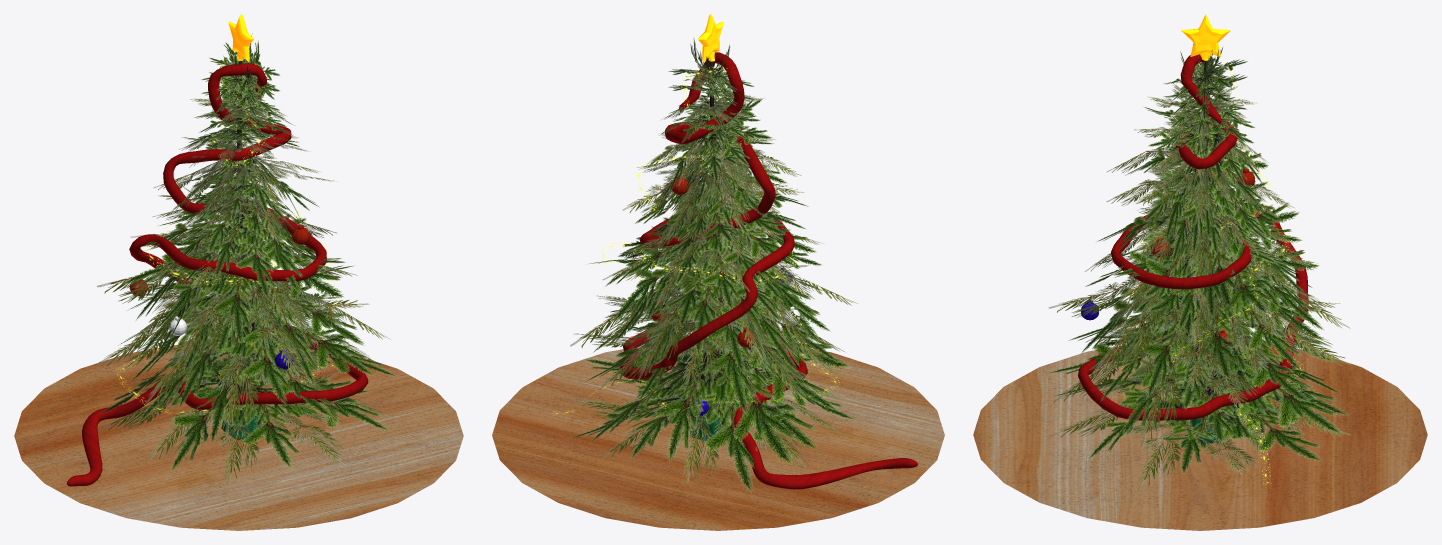
The model's file is christmas-tree.glb.
3 renders of one model, left to right at view 1: azimuth 30°, elevation 25°; view 2: azimuth 150°, elevation 25°; view 3: azimuth 270°, elevation 25°, orthographic.
Parts seen in each view (by area): view 1: pPlane37, pDisc1, pCylinder4, pCylinder3, pPlane39; view 2: pPlane37, pDisc1, pCylinder4, pPlane39, pCylinder3; view 3: pPlane37, pDisc1, pCylinder4, pCylinder3, pPlane39.
Boxes of the visible parts, x1=… form: pPlane37: x1=96, y1=33, x2=398, y2=484; pDisc1: x1=14, y1=343, x2=463, y2=530; pCylinder4: x1=66, y1=63, x2=368, y2=486; pCylinder3: x1=228, y1=14, x2=253, y2=61; pPlane39: x1=116, y1=57, x2=338, y2=413; pPlane37: x1=569, y1=39, x2=857, y2=492; pDisc1: x1=492, y1=343, x2=944, y2=530; pCylinder4: x1=619, y1=52, x2=918, y2=489; pPlane39: x1=553, y1=67, x2=839, y2=414; pCylinder3: x1=698, y1=14, x2=723, y2=62; pPlane37: x1=1049, y1=42, x2=1351, y2=490; pDisc1: x1=973, y1=343, x2=1427, y2=530; pCylinder4: x1=1078, y1=54, x2=1308, y2=420; pCylinder3: x1=1181, y1=14, x2=1230, y2=60; pPlane39: x1=1121, y1=56, x2=1303, y2=484.
Size of the model in its own units: 47.44 by 50.04 by 47.44.
9 materials, 9 textured.
